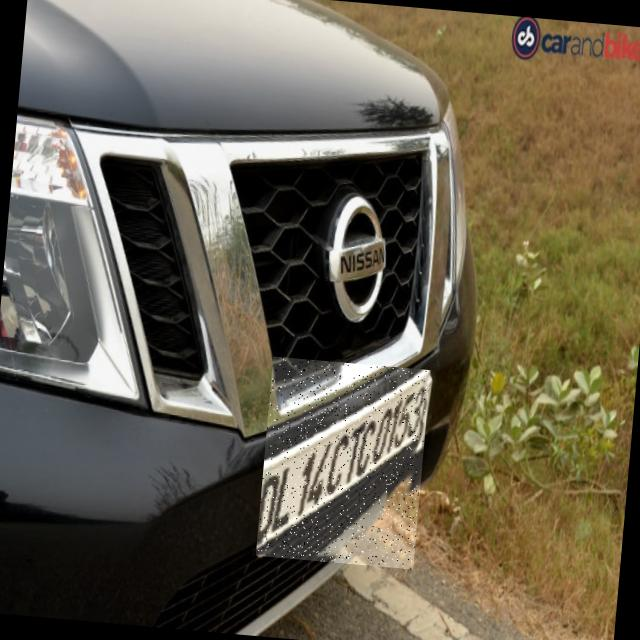Plate: (257, 357, 432, 570)
